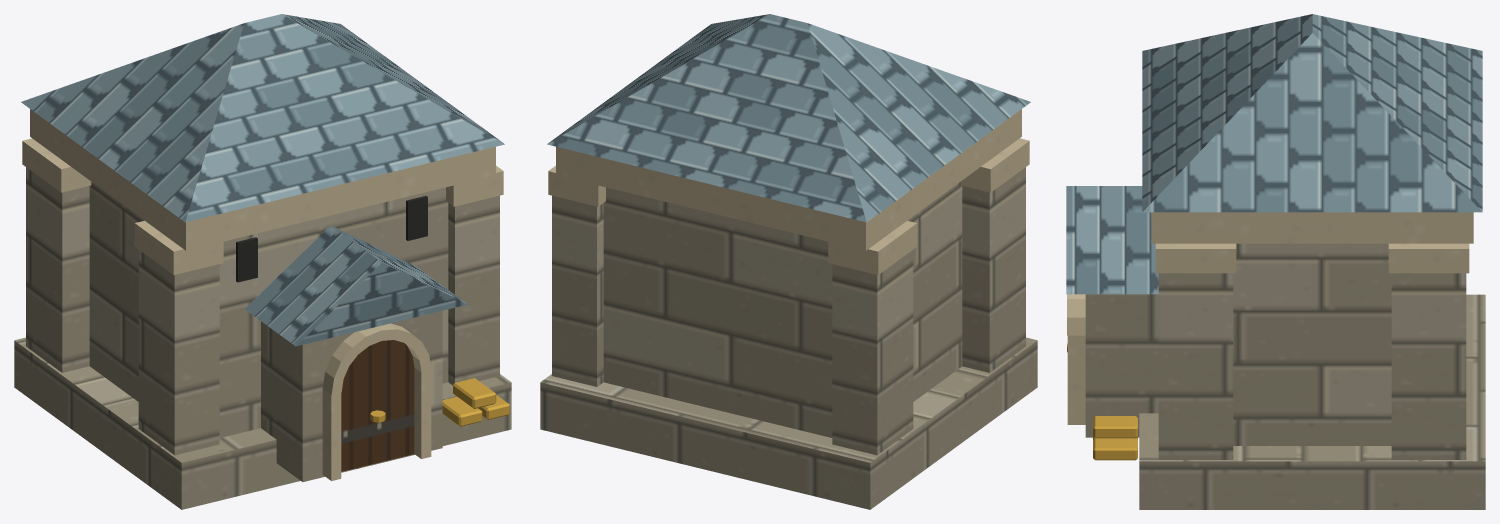
Rendered from gold-storage.glb.
The picture shows the model from 3 angles, left to right: view 1: azimuth 30°, elevation 25°; view 2: azimuth 150°, elevation 25°; view 3: azimuth 270°, elevation 25°; orthographic projection. The views are drawn at different scales.
Parts seen in each view (by area): view 1: Building_Body.006; view 2: Building_Body.006; view 3: Building_Body.006.
Boxes of the visible parts, <box> form: Building_Body.006: <box>14,14,511,509</box>; Building_Body.006: <box>540,14,1037,509</box>; Building_Body.006: <box>1066,14,1485,509</box>.
Bounding box in the file's own units: 1.32 × 1.49 × 1.4.
Materials: 1 (1 with a texture image).
